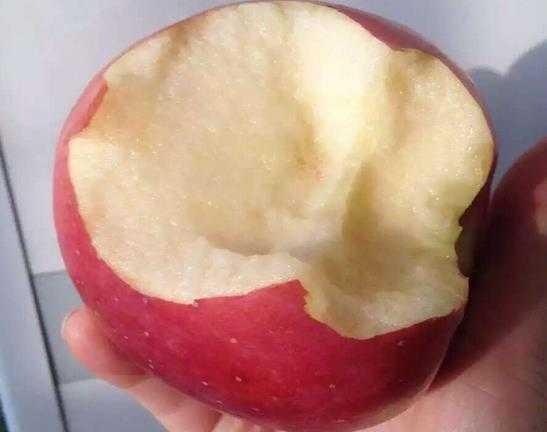apple: (46, 1, 496, 432)
